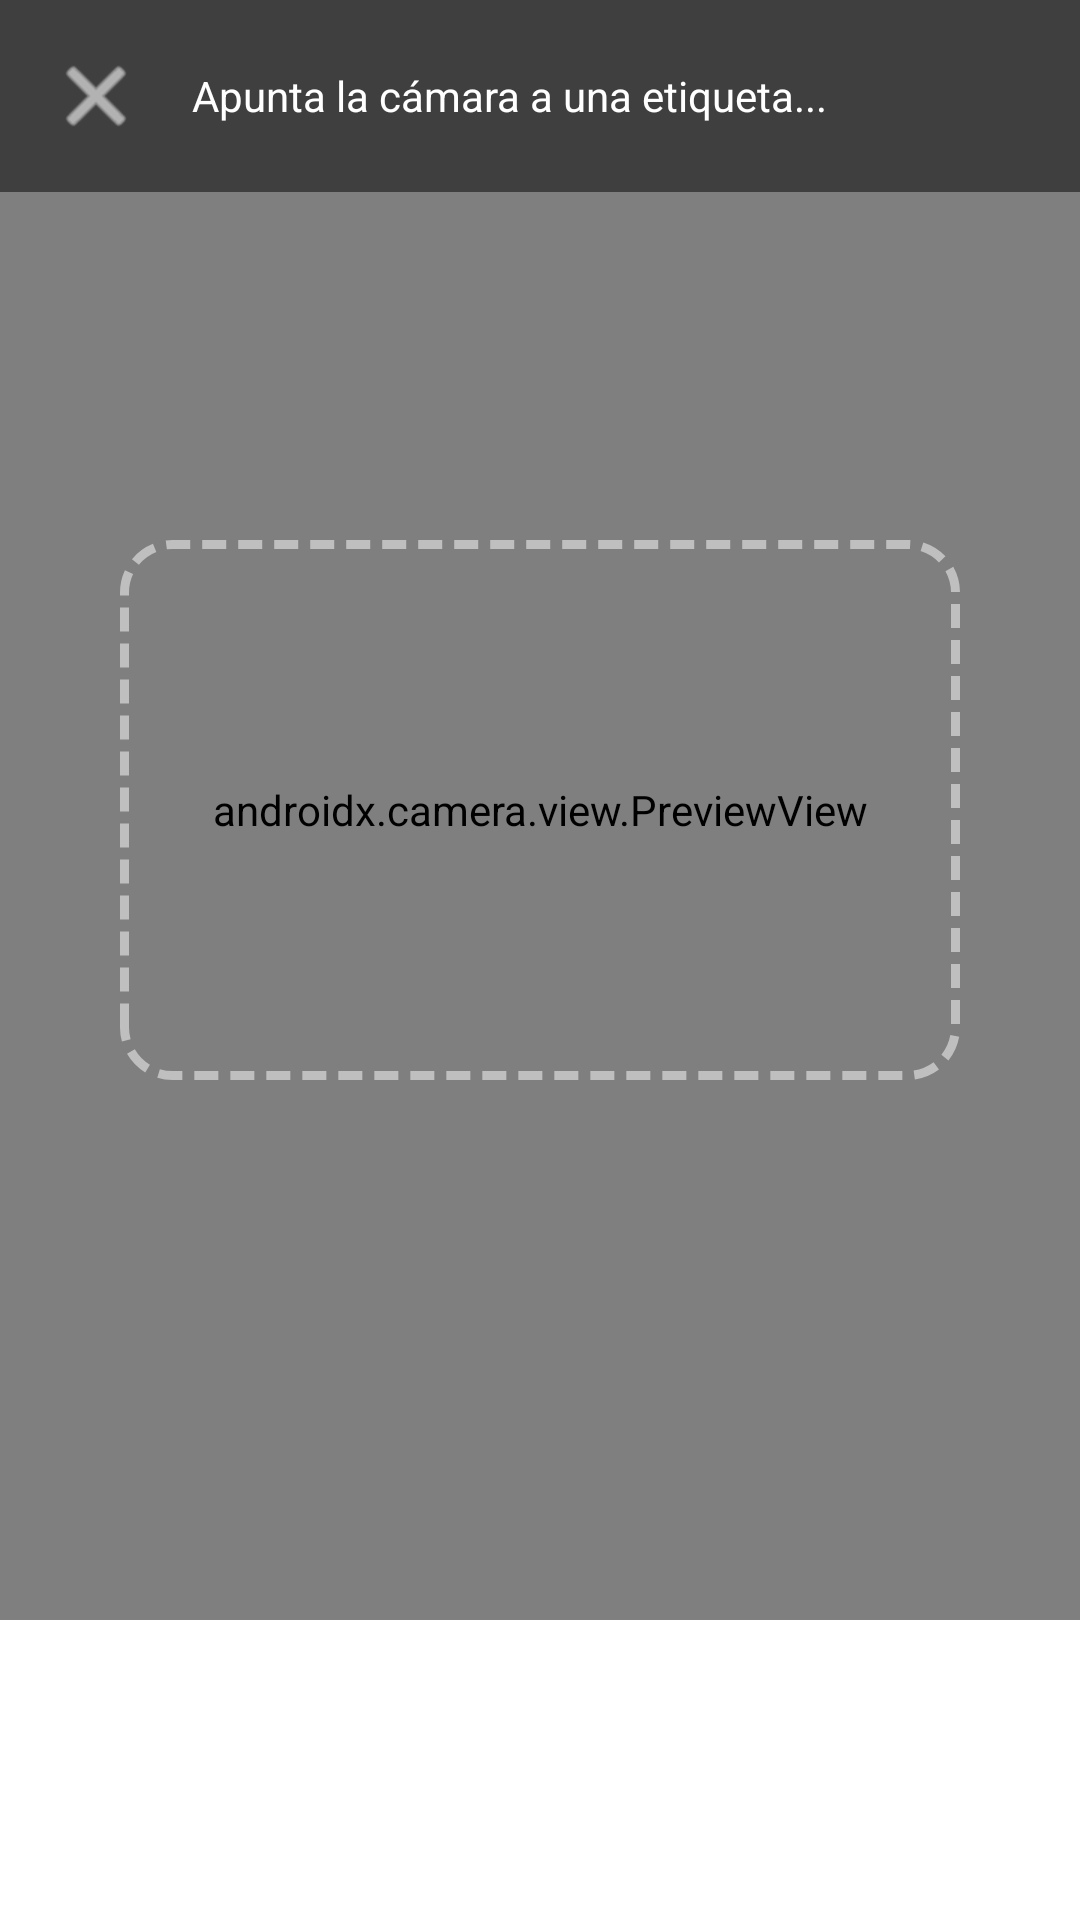

Screen size 1080px x 1920px. Icon name, then its box in pixels as (x1, y1, x2, y2):
Volver: (66, 66, 126, 126)
